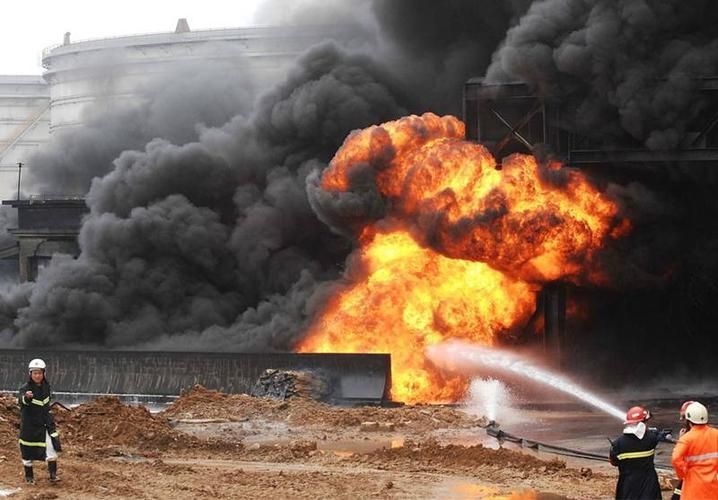fire: (278, 109, 634, 406)
